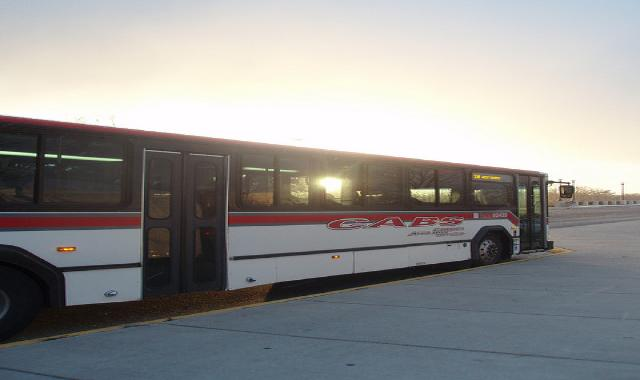bus: (0, 111, 571, 337)
